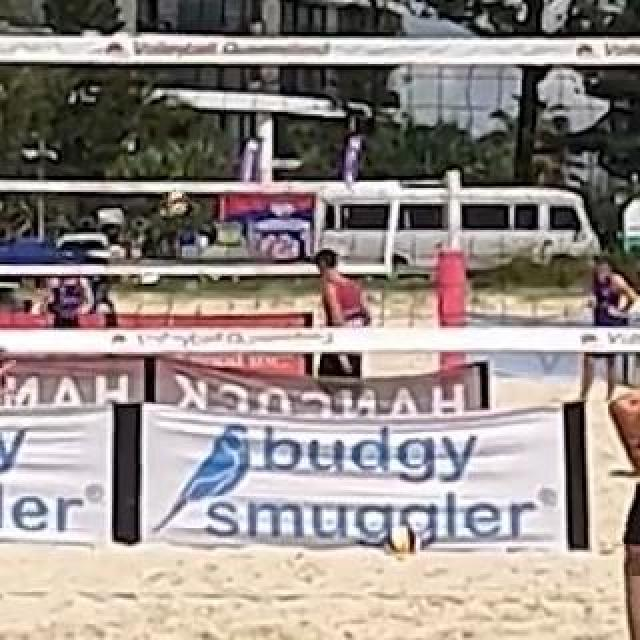volleyball: (378, 525, 422, 557)
